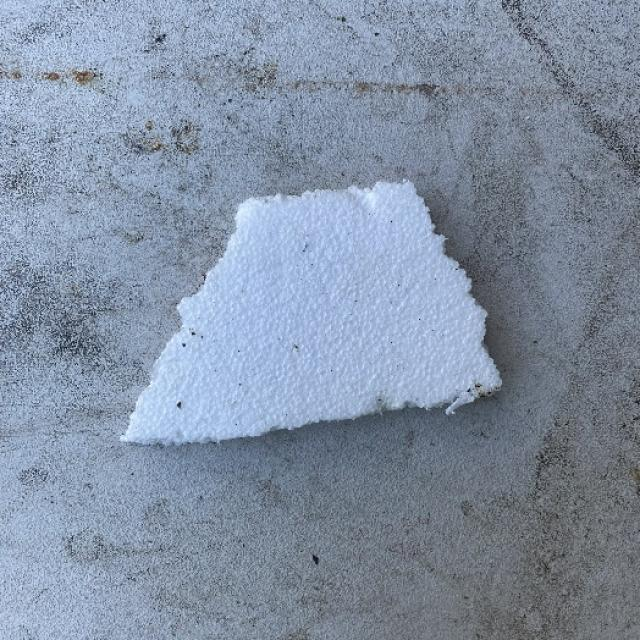styrofoam: (118, 177, 502, 447)
